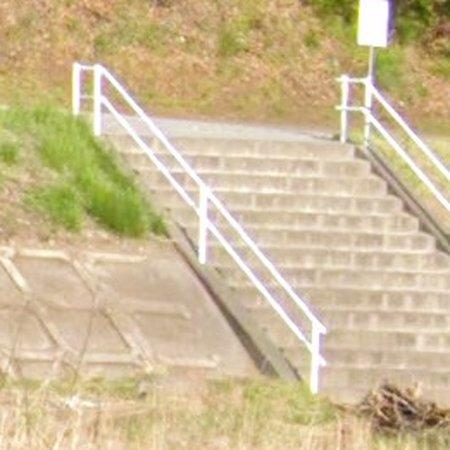stairs: (75, 67, 450, 405)
